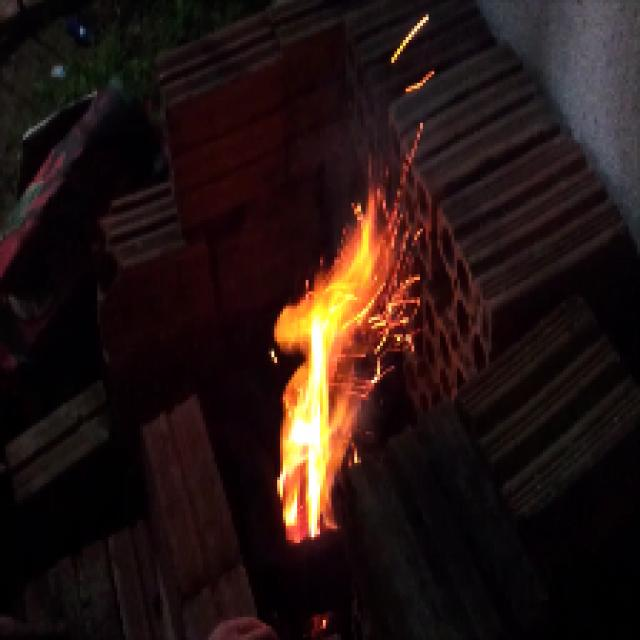fire: (273, 182, 388, 558)
